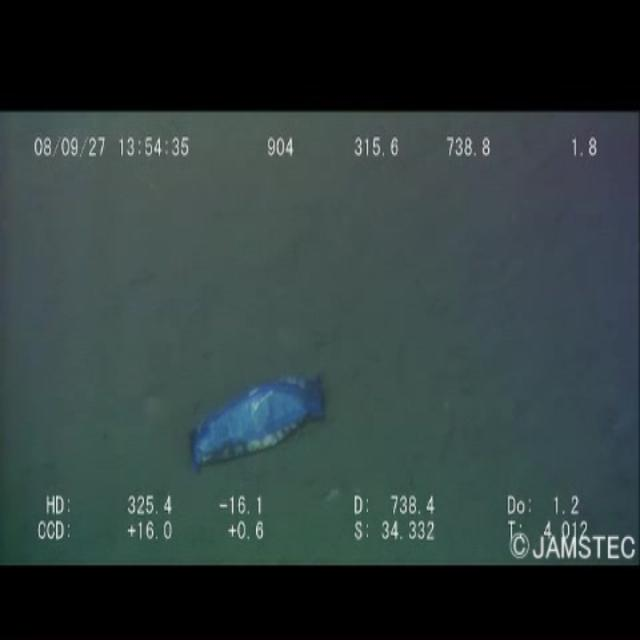Litter: (179, 366, 335, 466)
